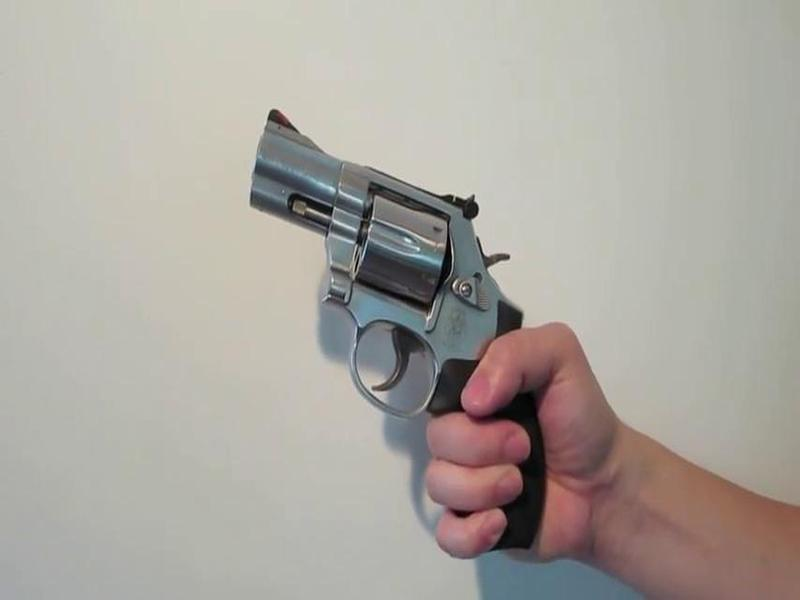Revolver: (238, 79, 573, 479)
